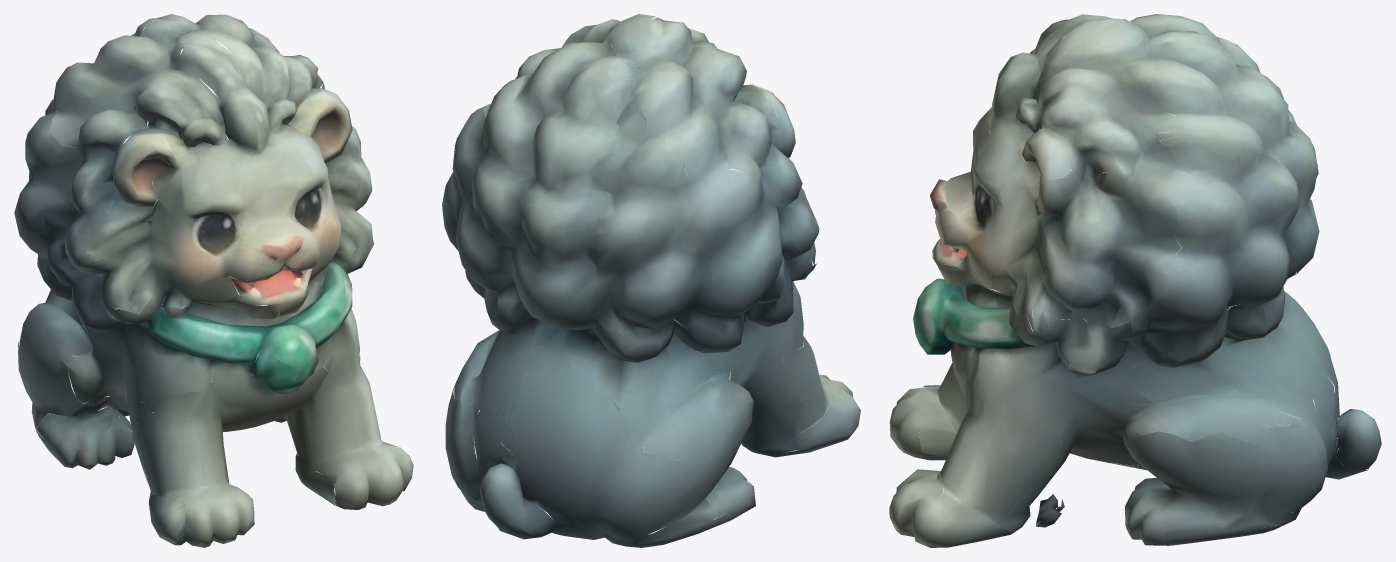
File: mob_lion.glb
The picture shows the model from 3 angles, left to right: view 1: azimuth 30°, elevation 25°; view 2: azimuth 150°, elevation 25°; view 3: azimuth 270°, elevation 25°; orthographic projection. The views are drawn at different scales.
Parts seen in each view (by area): view 1: tripo_node_53a64f8e-b3c1-4aa2-8e1c-e16b82f901f9; view 2: tripo_node_53a64f8e-b3c1-4aa2-8e1c-e16b82f901f9; view 3: tripo_node_53a64f8e-b3c1-4aa2-8e1c-e16b82f901f9.
Boxes of the visible parts, x1,y1,x2,y2 form: tripo_node_53a64f8e-b3c1-4aa2-8e1c-e16b82f901f9: (14,14,413,547); tripo_node_53a64f8e-b3c1-4aa2-8e1c-e16b82f901f9: (442,14,860,547); tripo_node_53a64f8e-b3c1-4aa2-8e1c-e16b82f901f9: (889,14,1381,547).
Size of the model in its own units: 0.7728 by 1 by 0.9651.
Materials: 1 (1 with a texture image).
